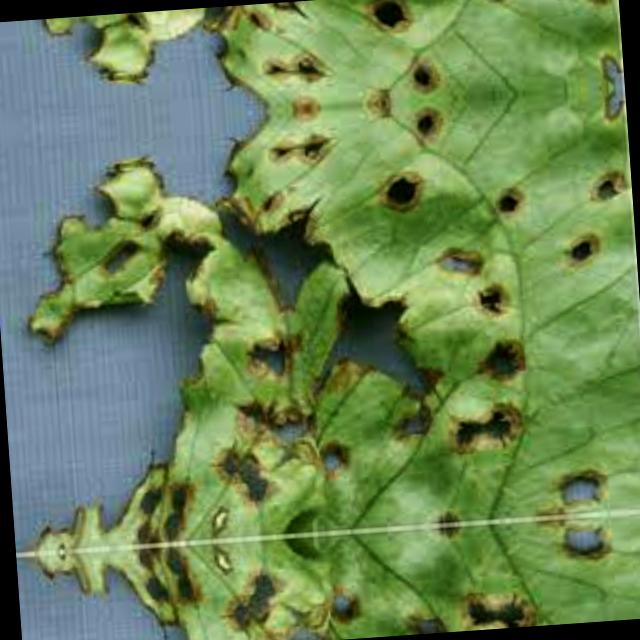Lettuce - Anthracnose: (12, 85, 640, 553), (4, 0, 623, 128), (41, 510, 640, 640)
